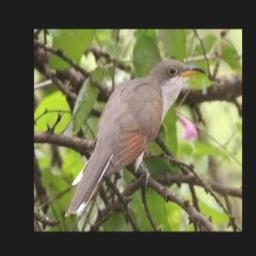Cuckoo: (65, 58, 206, 216)
